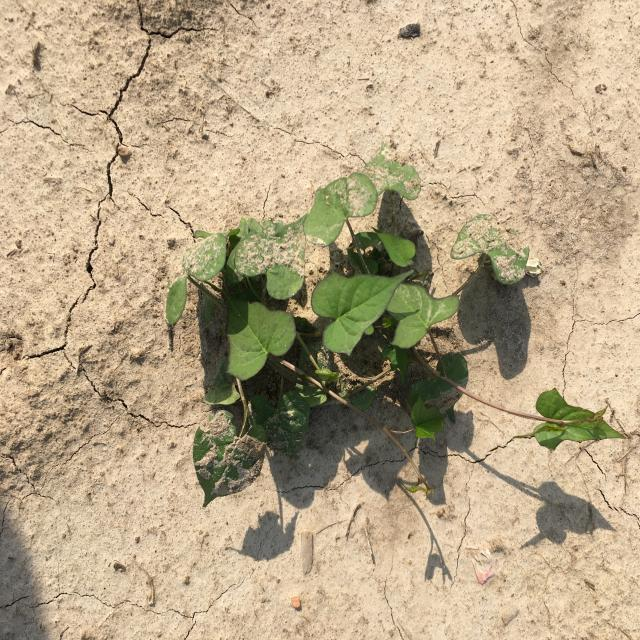MorningGlory: (165, 138, 628, 508)
